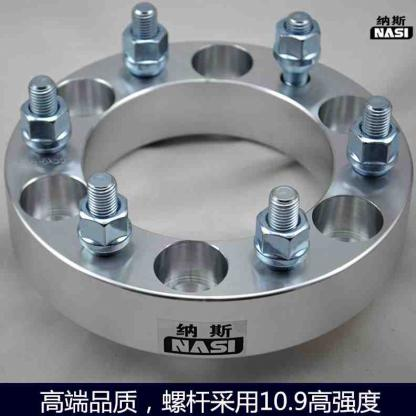FOD: (0, 29, 415, 363)
